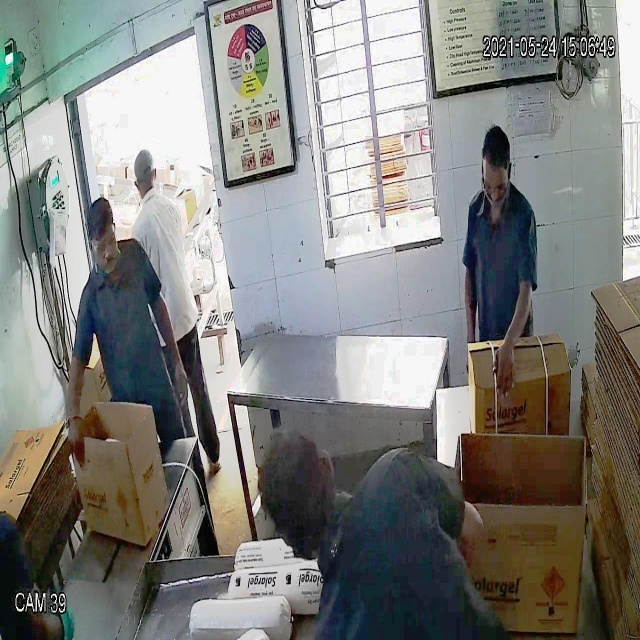Gafas: (477, 171, 514, 204), (86, 226, 121, 256)
